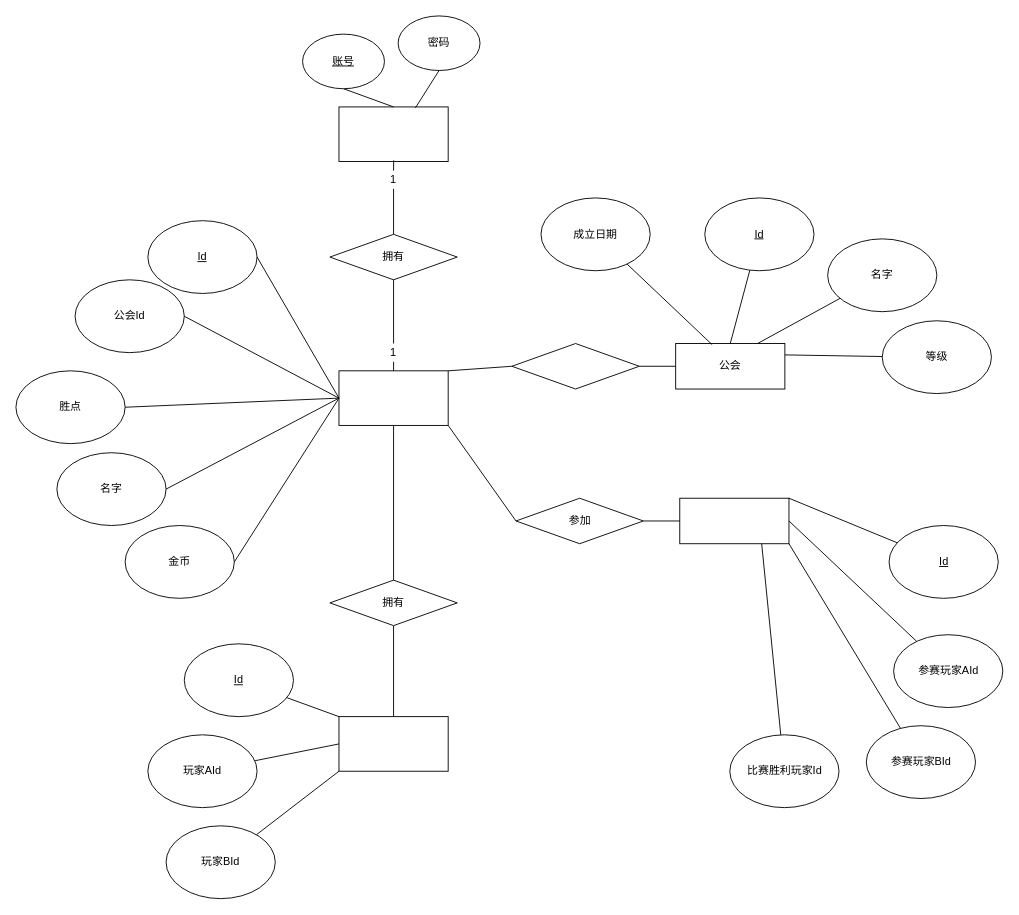
The diagram is 1019 pixels wide and 915 high, and some of its shapes have lost their labels. Here are the shapes that lost their labels. From the top down, the centre of each, then its label:
pixel 393 134: 用户账户
pixel 575 366: 加入
pixel 393 397: 玩家
pixel 734 520: 比赛
pixel 393 743: 好友关系
